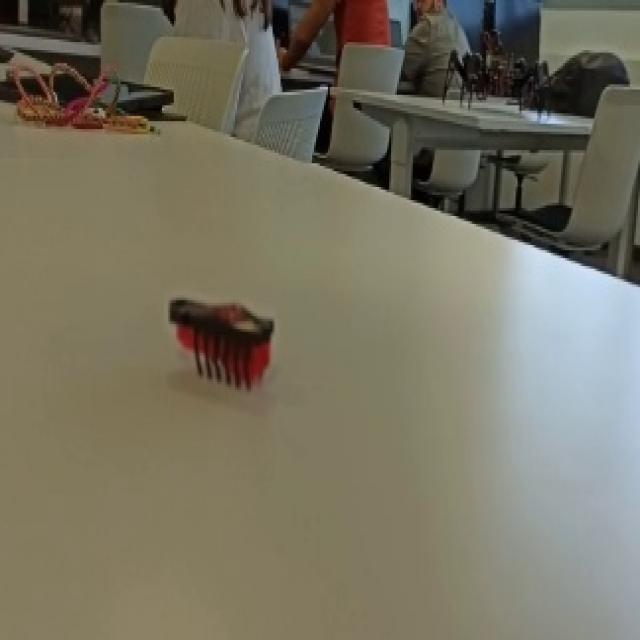2_NanoBug_Negro: (150, 266, 320, 439)
